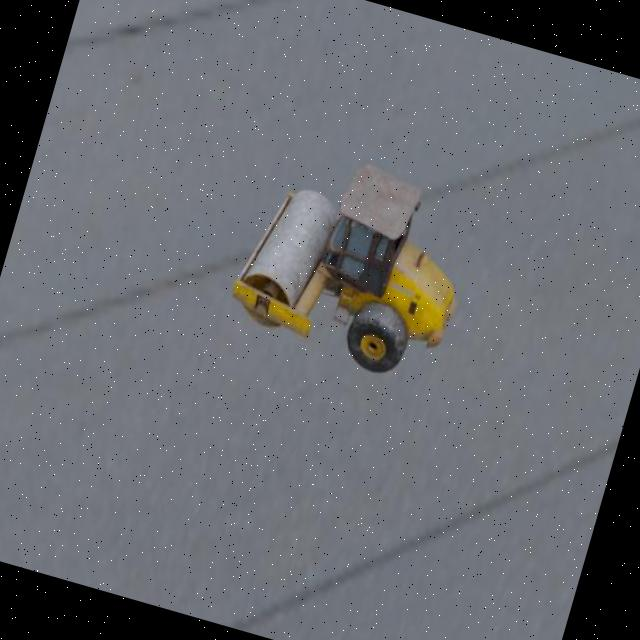Roller: (220, 134, 488, 388)
